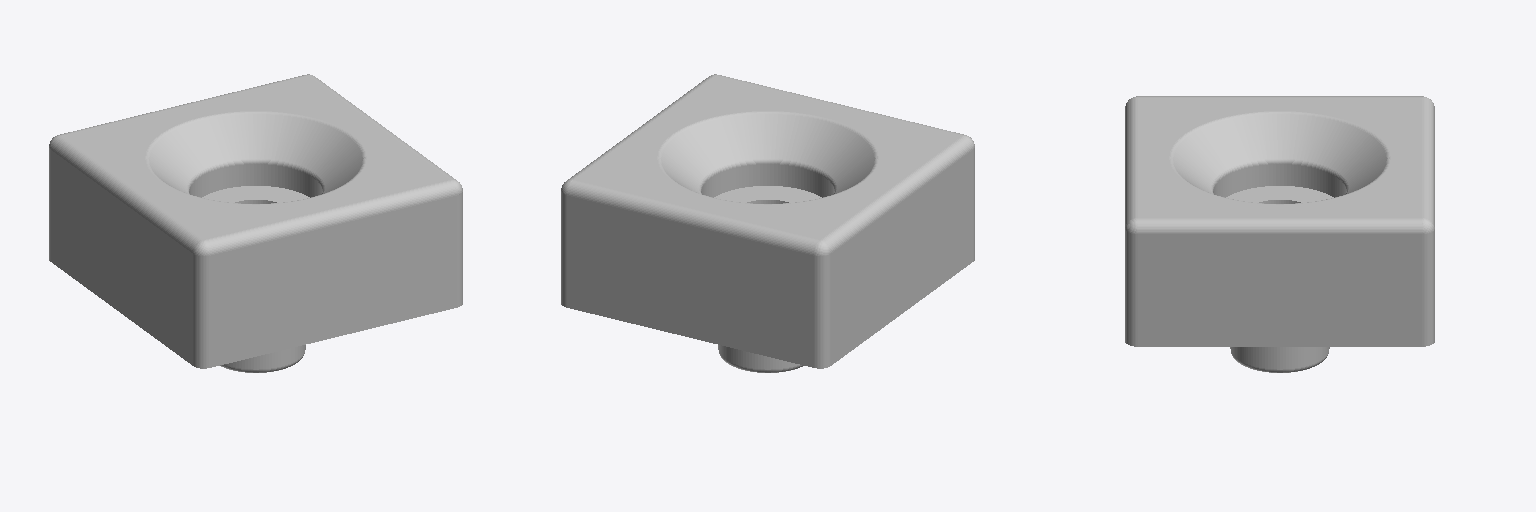
The model's file is plug_L_mount.obj.
3 views of the same model, side by side, from view 1: azimuth 30°, elevation 25°; view 2: azimuth 150°, elevation 25°; view 3: azimuth 270°, elevation 25° (orthographic).
Parts seen in each view (by area): view 1: Body1; view 2: Body1; view 3: Body1.
Part boxes in pixels (bbox=[...]): Body1: bbox=[49, 74, 462, 372]; Body1: bbox=[561, 74, 974, 372]; Body1: bbox=[1125, 96, 1434, 372].
Size of the model in its own units: 0.05 by 0.035 by 0.05.